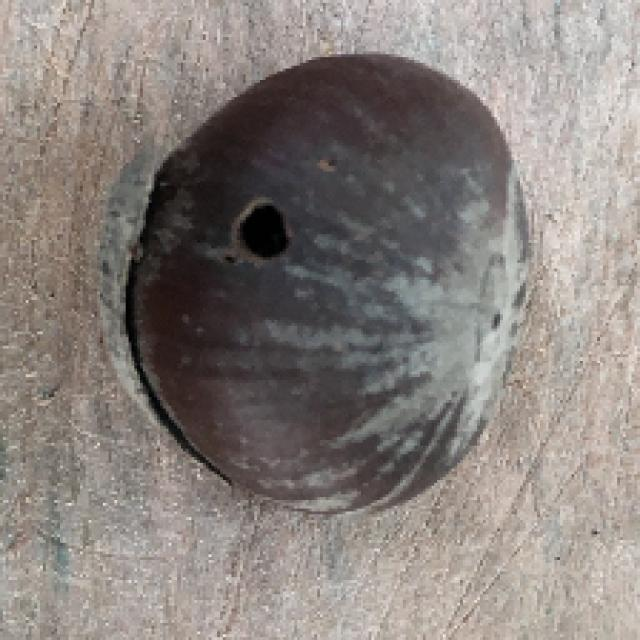damagedHazelnut: (101, 53, 540, 513)
